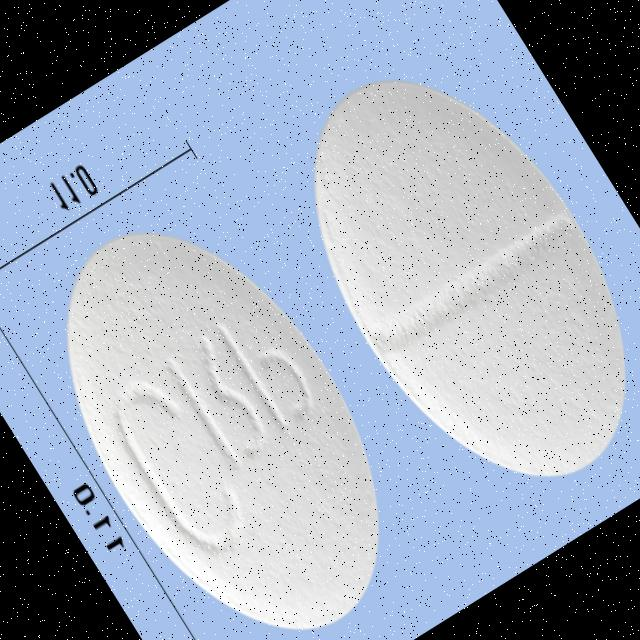Ciropan: (0, 170, 451, 640), (244, 19, 640, 539)
